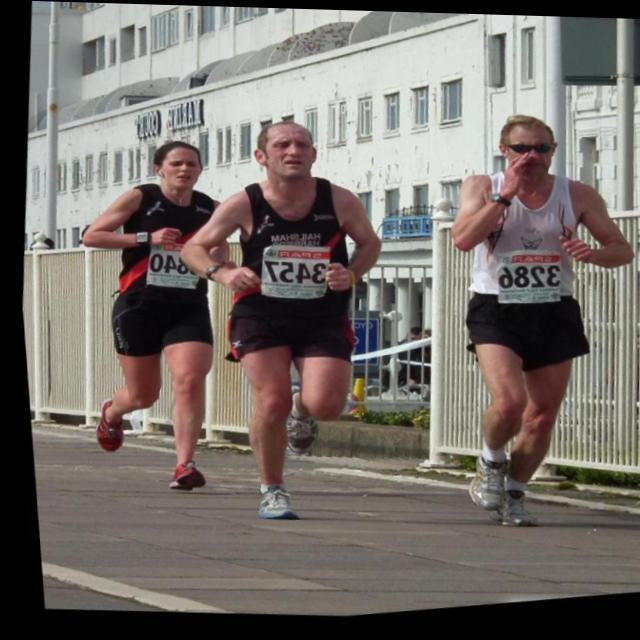dorsal: (240, 234, 339, 317), (479, 244, 570, 329), (130, 231, 217, 301)
